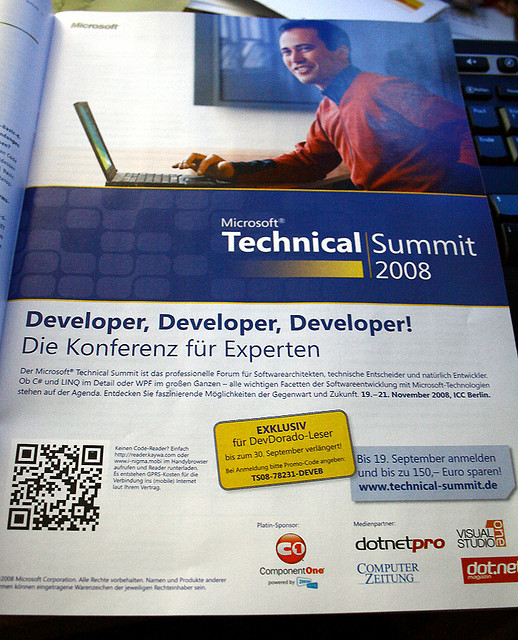QR-CODE: (7, 444, 103, 530)
